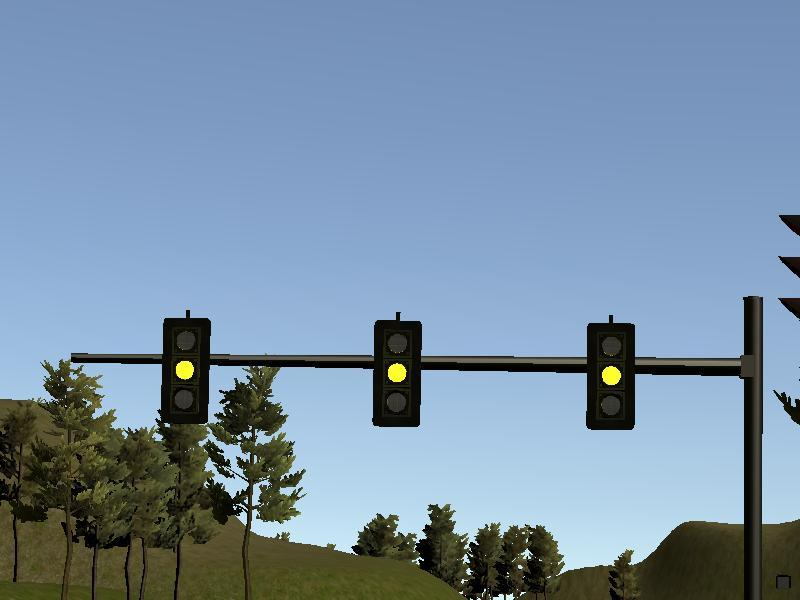Yellow: (586, 322, 636, 430), (373, 320, 422, 428), (162, 318, 210, 422)
